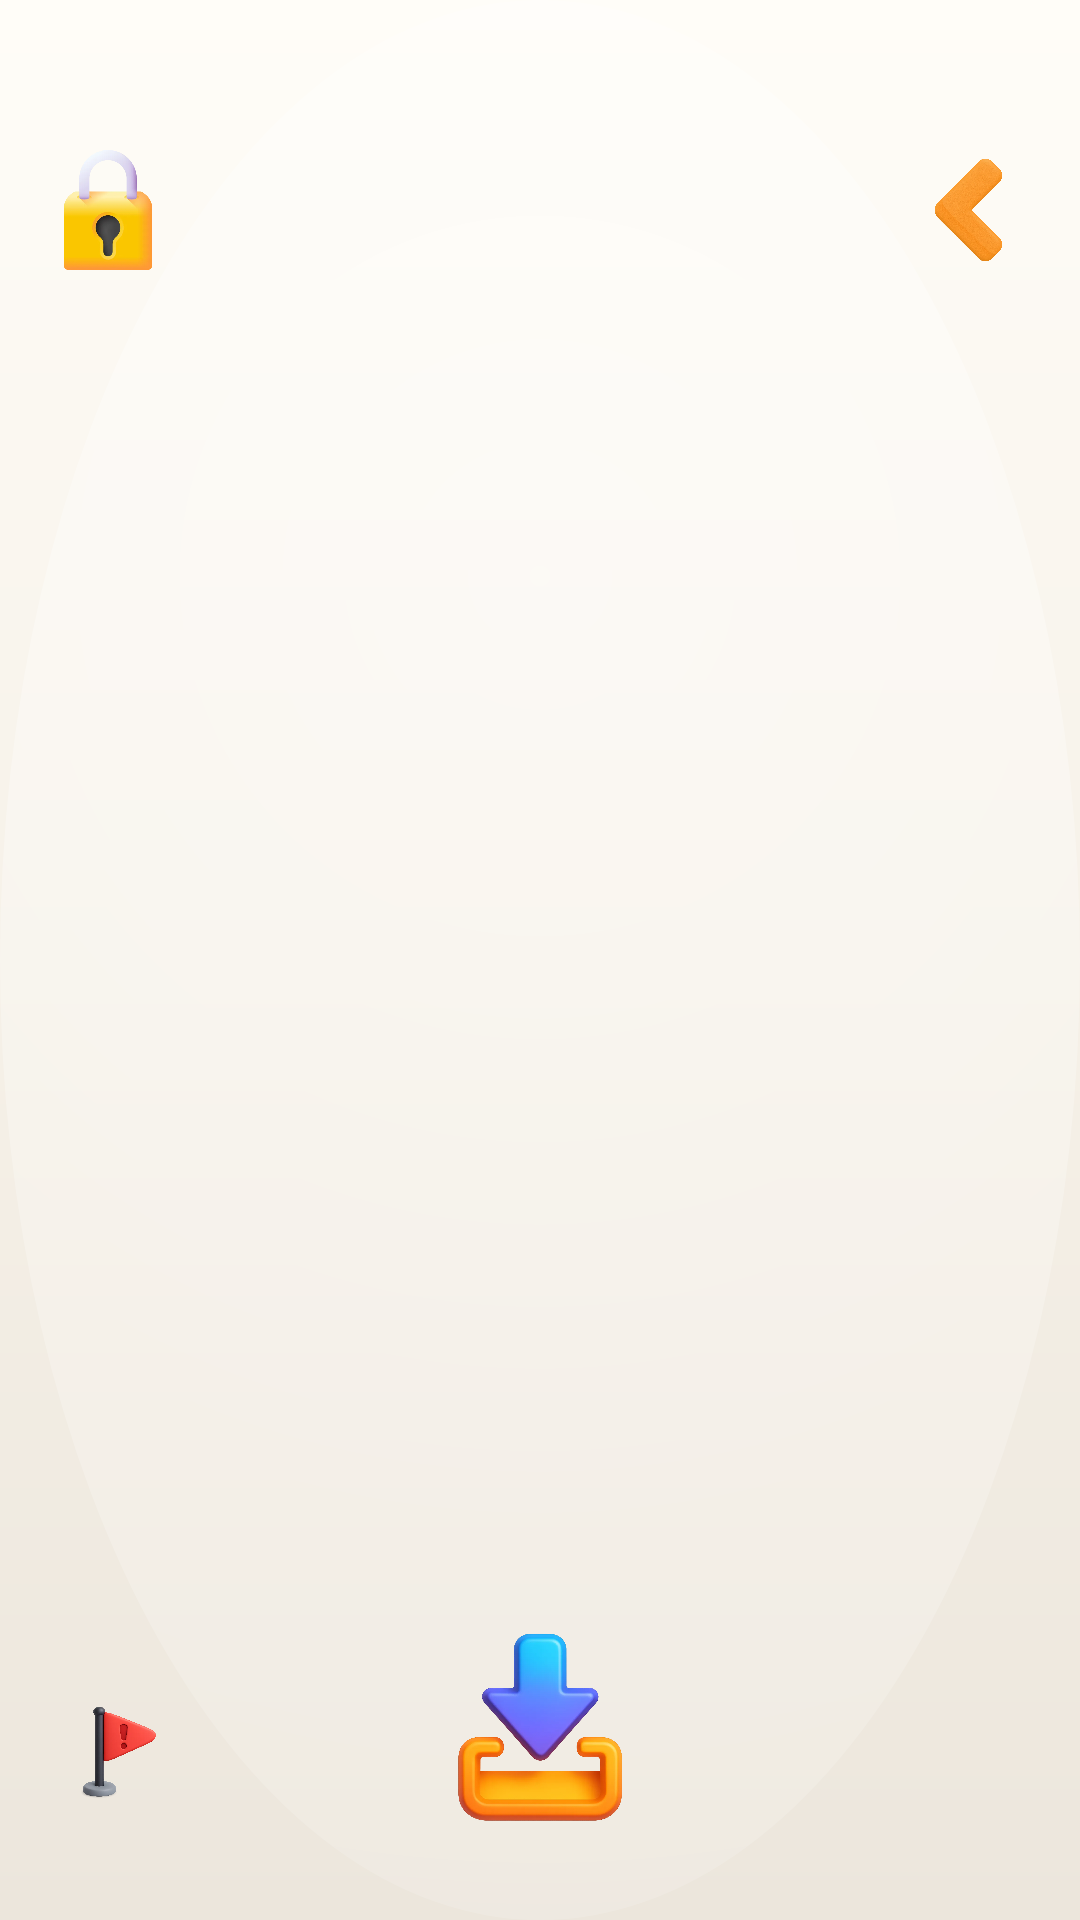

Icons on this 1080 x 1920 Android screen, each with its box as (x1, y1, x2, y2):
Back arrow: (935, 159, 1002, 261)
Double rewarded lock: (64, 154, 152, 270)
Download: (458, 1634, 622, 1821)
Report content: (83, 1707, 156, 1797)
